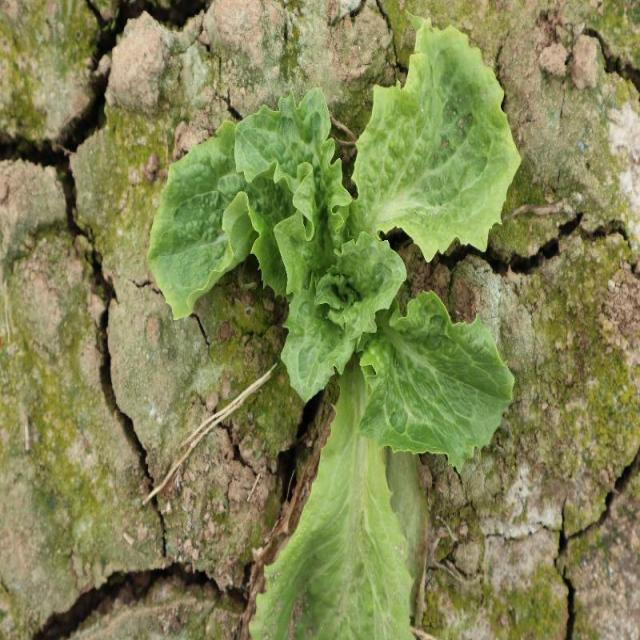crop: (148, 22, 524, 636)
